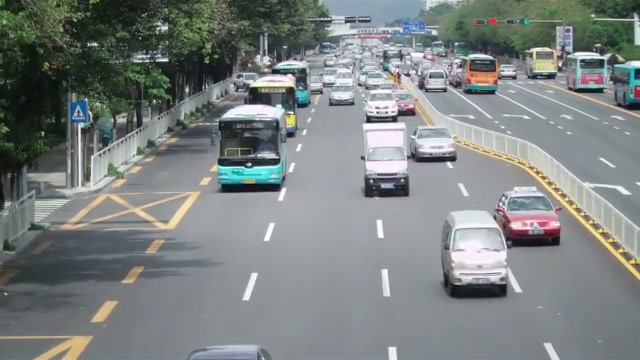bus: (216, 103, 288, 191), (247, 75, 298, 137), (273, 61, 311, 107), (565, 52, 607, 92), (464, 54, 500, 94), (612, 61, 640, 108), (524, 47, 558, 79)
car: (439, 209, 510, 298), (493, 188, 562, 247), (361, 146, 411, 197), (409, 125, 457, 162), (185, 345, 274, 360), (363, 89, 399, 123), (392, 89, 417, 115), (328, 84, 355, 106), (423, 70, 448, 93), (500, 64, 518, 80)
truck: (360, 122, 411, 197), (612, 61, 640, 108), (524, 47, 558, 79)
